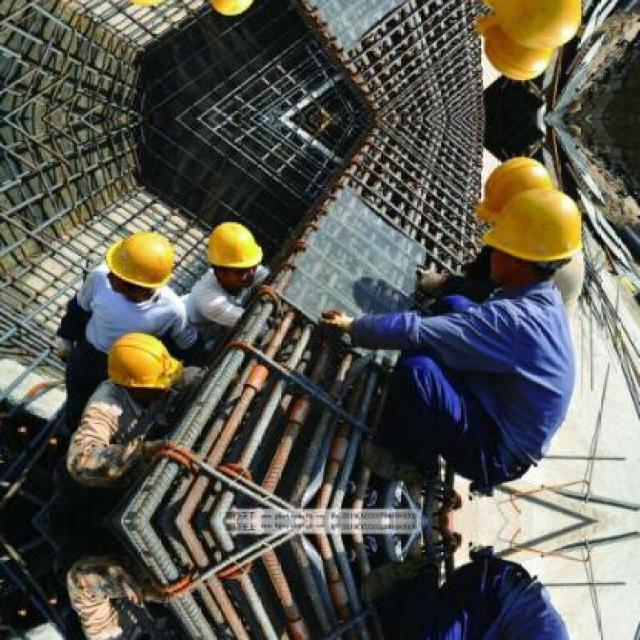helmet: (482, 189, 582, 284), (473, 8, 561, 78), (473, 159, 561, 228), (104, 332, 184, 401), (103, 230, 177, 302), (481, 0, 583, 49), (202, 220, 262, 290), (202, 0, 263, 17)
